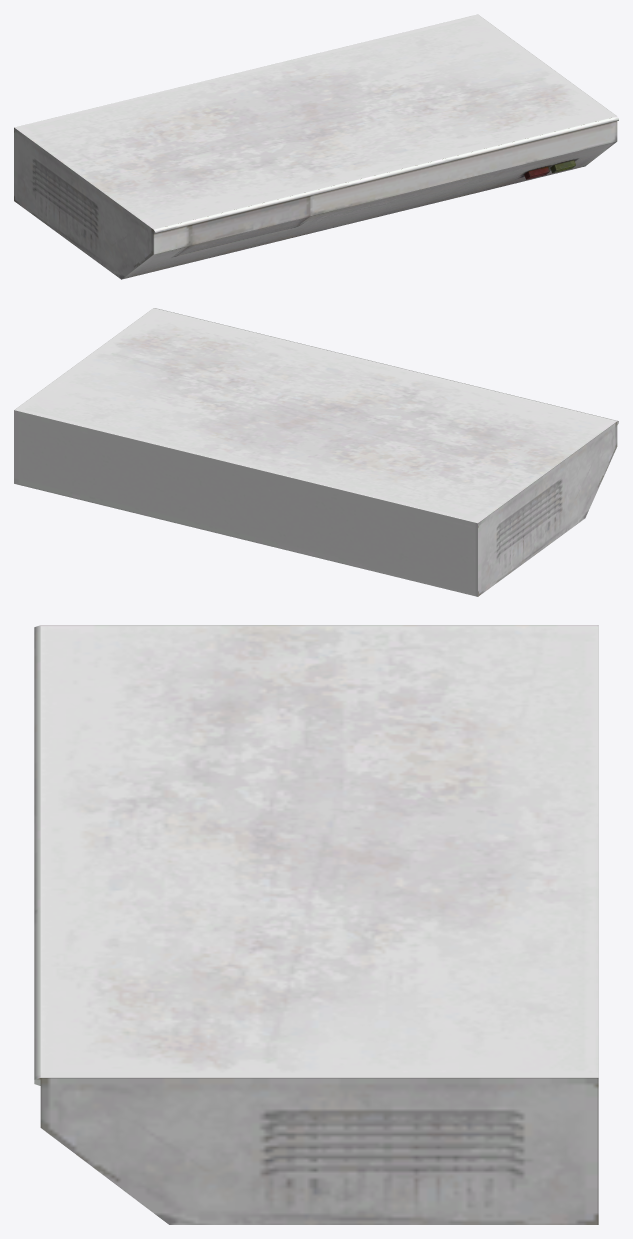
The model's file is fan_kitchen.dae.
The picture shows the model from 3 angles, top to bottom: view 1: azimuth 30°, elevation 25°; view 2: azimuth 150°, elevation 25°; view 3: azimuth 270°, elevation 25°; orthographic projection. The views are drawn at different scales.
Parts seen in each view (by area): view 1: fan_kitchen; view 2: fan_kitchen; view 3: fan_kitchen.
Part boxes in pixels (x1,y1,x2,y2): fan_kitchen: (14,14,618,279); fan_kitchen: (14,308,618,596); fan_kitchen: (34,625,598,1224).
Size of the model in its own units: 0.5432 by 0.0881 by 0.2861.
